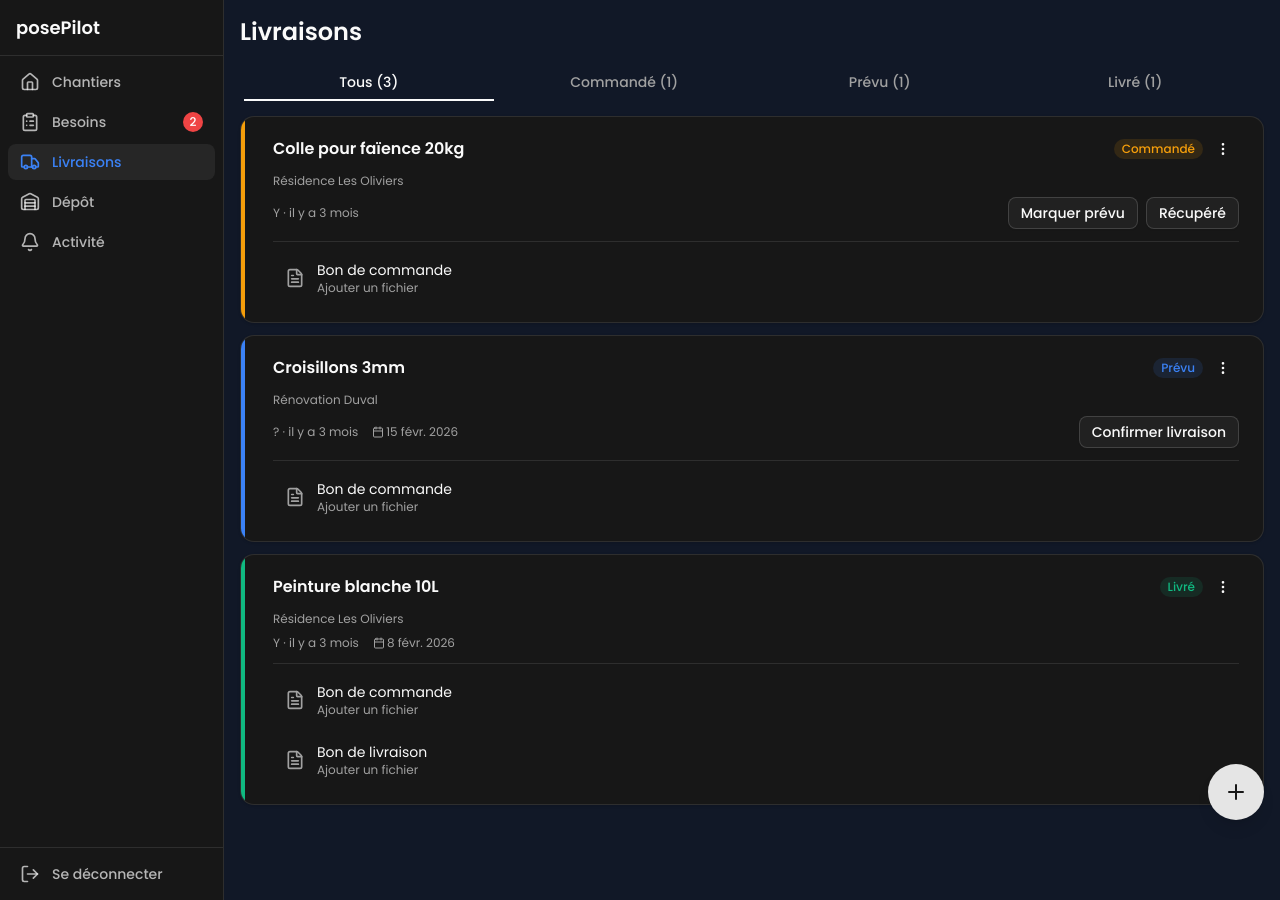
it: LivraisonsPage › filters livraisons when tab is clicked
The image size is (1280, 900).
Check: the text "Colle pour faïence 20kg" is shown, box x1=273 y1=137 x2=464 y2=161
Click the tab "Commandé (1)": [624, 82] box x1=498 y1=68 x2=750 y2=96
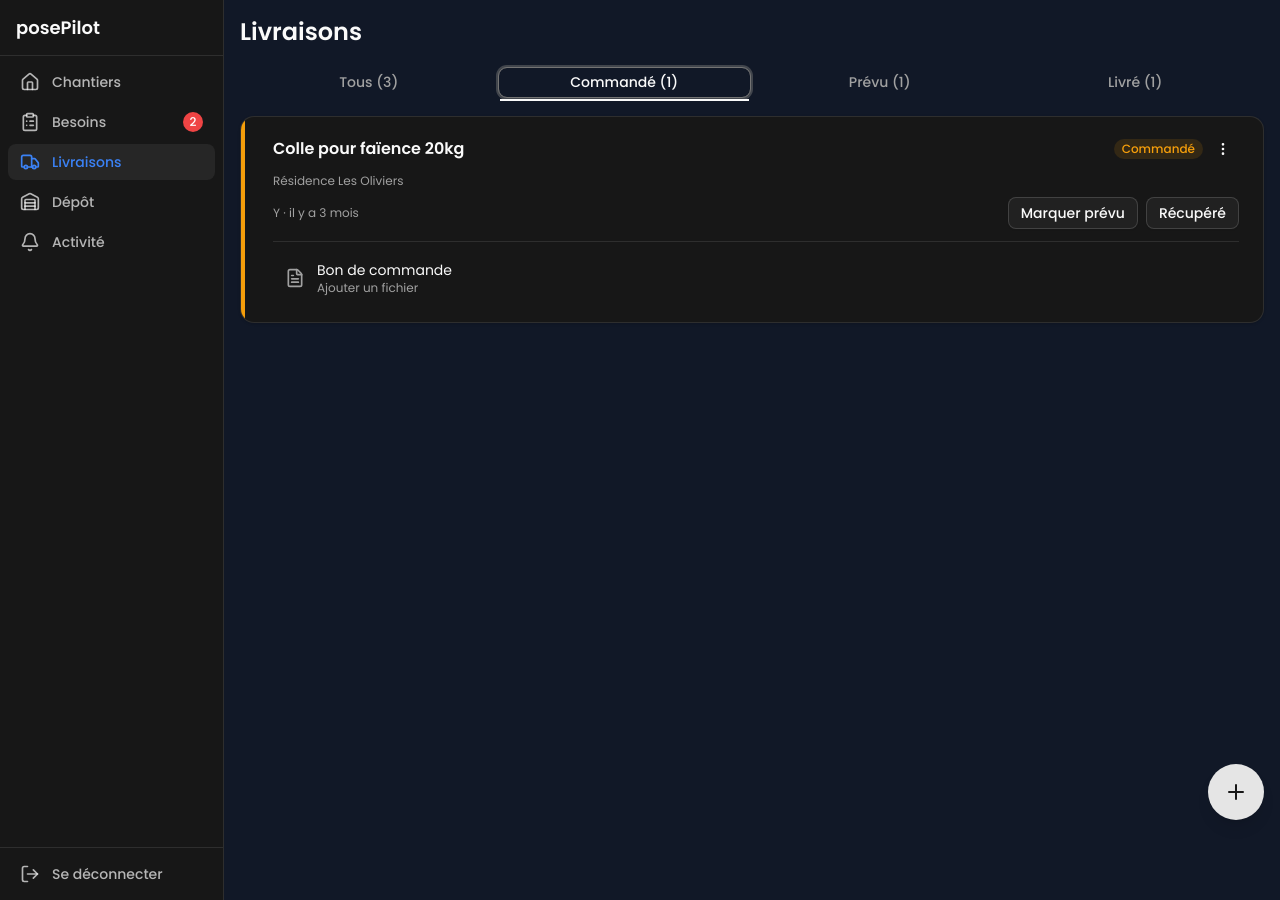
Check: the text "Colle pour faïence 20kg" is shown, box x1=273 y1=137 x2=464 y2=161
Check: the text "Croisillons 3mm" is gone
Check: the text "Peinture blanche 10L" is gone
